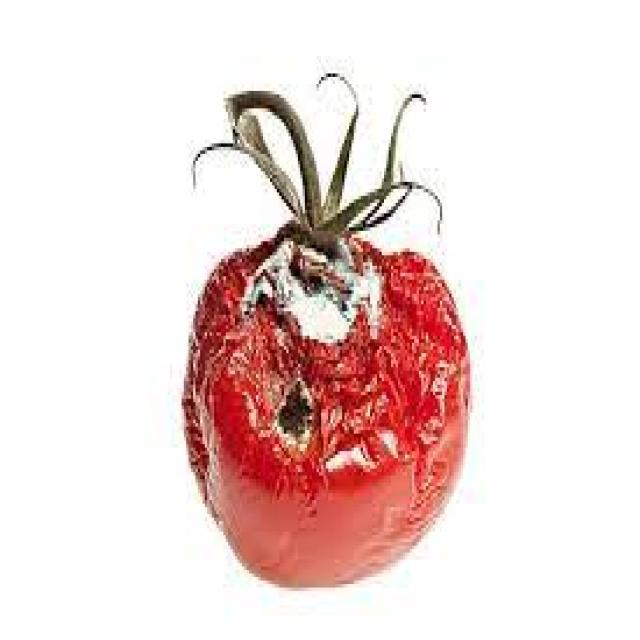overripe tomato: (159, 31, 501, 618)
